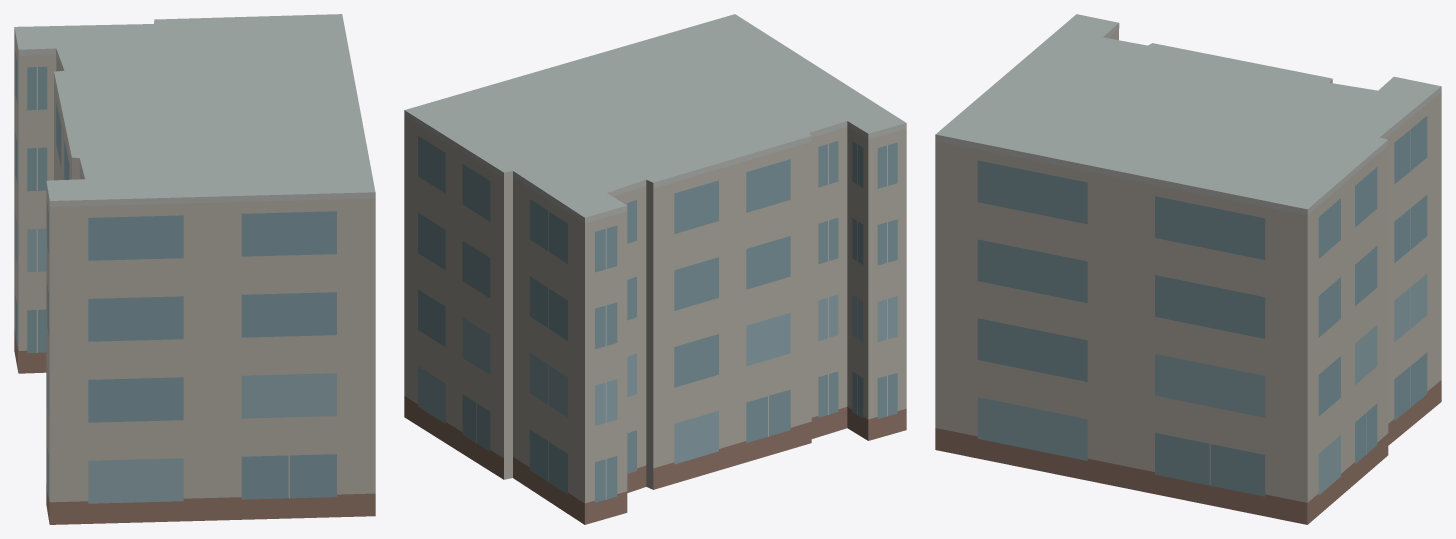
The model's file is survey-upis-32597978.glb.
The picture shows the model from 3 angles, left to right: view 1: azimuth 30°, elevation 25°; view 2: azimuth 150°, elevation 25°; view 3: azimuth 270°, elevation 25°; orthographic projection. The views are drawn at different scales.
Parts seen in each view (by area): view 1: survey-upis-32597978.tmp; view 2: survey-upis-32597978.tmp; view 3: survey-upis-32597978.tmp.
Boxes of the visible parts, x1,y1,x2,y2 form: survey-upis-32597978.tmp: [14, 14, 375, 524]; survey-upis-32597978.tmp: [404, 14, 906, 524]; survey-upis-32597978.tmp: [935, 14, 1441, 524].
Size of the model in its own units: 17.41 by 13.1 by 19.05.
